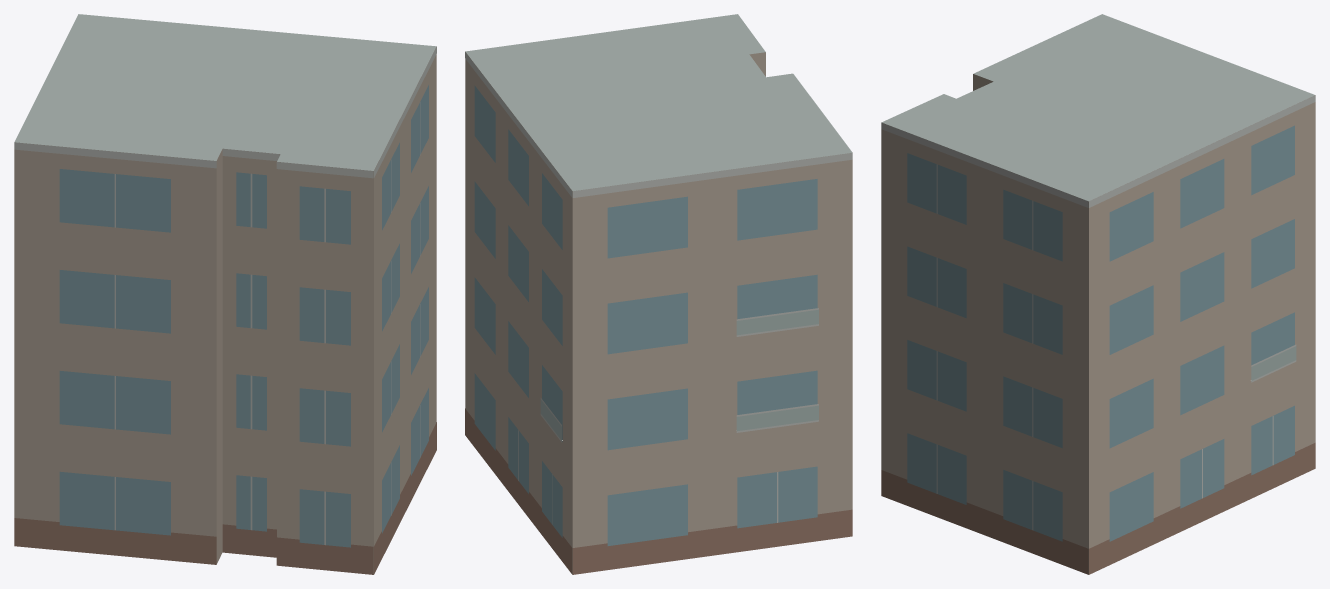
Rendered from survey-upis-32524440.glb.
The picture shows the model from 3 angles, left to right: view 1: azimuth 30°, elevation 25°; view 2: azimuth 150°, elevation 25°; view 3: azimuth 270°, elevation 25°; orthographic projection. The views are drawn at different scales.
Parts seen in each view (by area): view 1: survey-upis-32524440.tmp; view 2: survey-upis-32524440.tmp; view 3: survey-upis-32524440.tmp.
Part boxes in pixels (x1,y1,x2,y2): survey-upis-32524440.tmp: (14, 14, 436, 574); survey-upis-32524440.tmp: (465, 14, 852, 574); survey-upis-32524440.tmp: (881, 14, 1315, 574).
Size of the model in its own units: 14.48 by 13.45 by 14.18.
